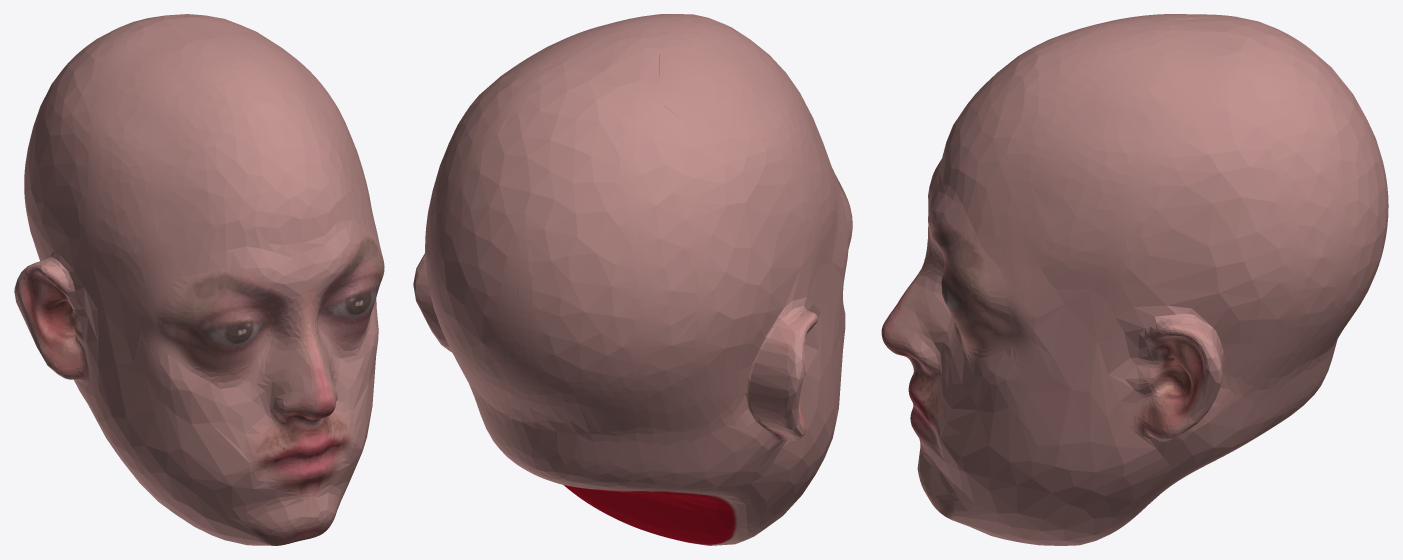
File: Head.glb
3 renders of one model, left to right at view 1: azimuth 30°, elevation 25°; view 2: azimuth 150°, elevation 25°; view 3: azimuth 270°, elevation 25°, orthographic. The views are drawn at different scales.
Visible parts, largest first — view 1: Ears 7; view 2: Ears 7; view 3: Ears 7.
Boxes of the visible parts, box(x1,y1,x2,y2) form: Ears 7: box(14, 14, 384, 545); Ears 7: box(413, 14, 852, 545); Ears 7: box(881, 14, 1388, 545).
Bounding box in the file's own units: 191 × 252 × 230.
